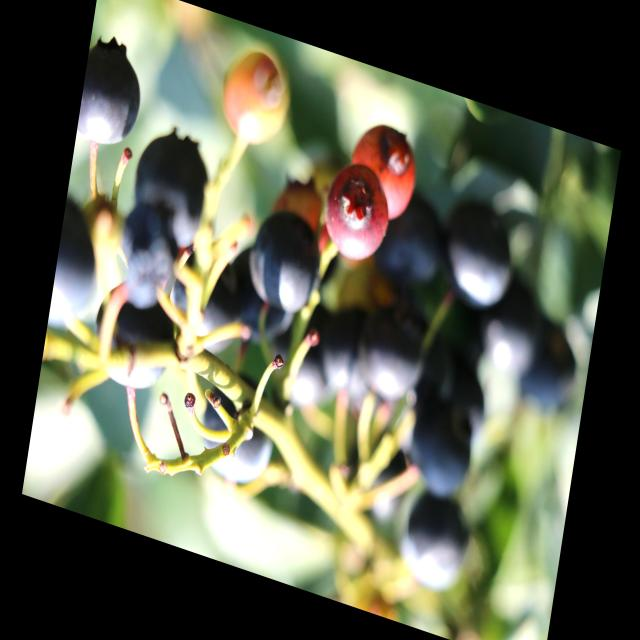blueberry: (120, 111, 222, 258), (187, 355, 288, 498), (157, 232, 254, 376), (87, 269, 186, 406), (247, 275, 342, 417), (429, 186, 524, 324), (392, 378, 488, 512), (321, 413, 416, 540), (365, 172, 453, 303), (217, 234, 308, 360), (241, 193, 328, 322), (388, 482, 477, 608), (108, 183, 188, 318), (349, 292, 436, 416), (76, 22, 154, 158), (466, 262, 555, 381), (46, 187, 112, 347), (511, 301, 589, 428), (314, 286, 390, 412)
blueberry-halfripe: (209, 38, 293, 150), (341, 115, 422, 225), (320, 156, 393, 269)
